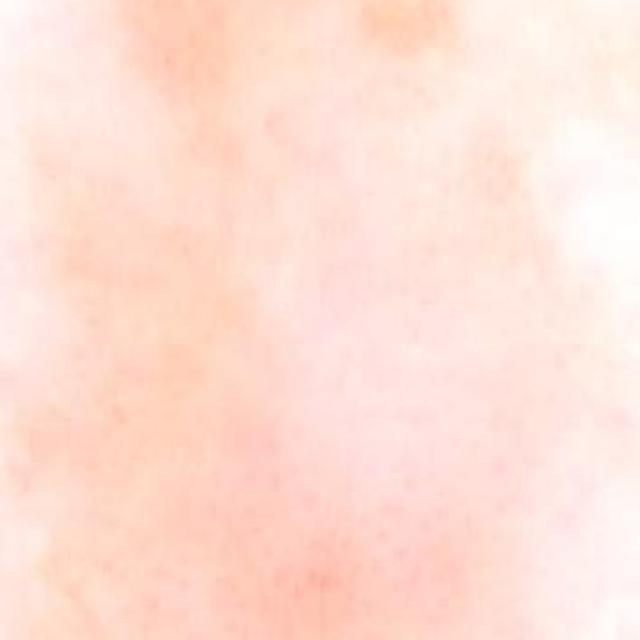AKIEC: (0, 0, 584, 640)
